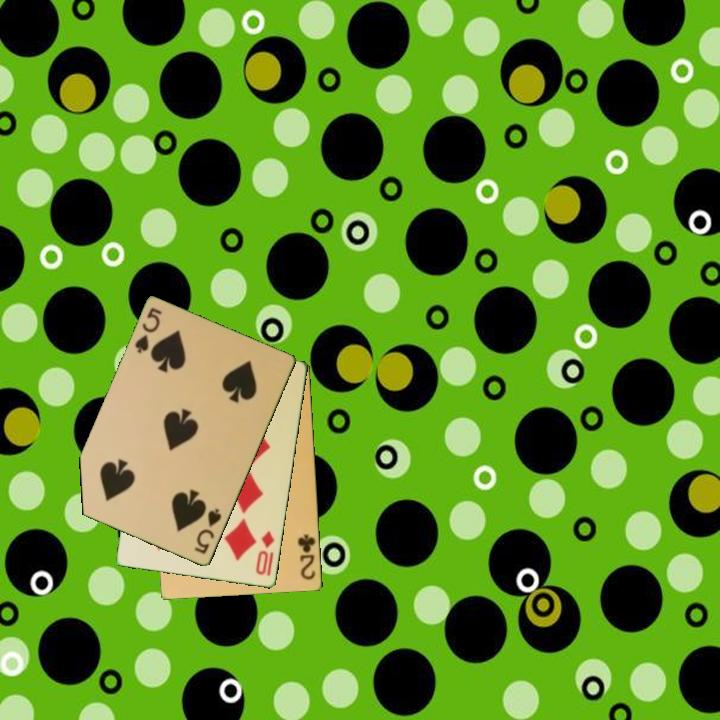10d: (252, 528, 277, 578)
2c: (294, 531, 319, 583)
5s: (191, 505, 225, 557), (131, 305, 165, 357)
